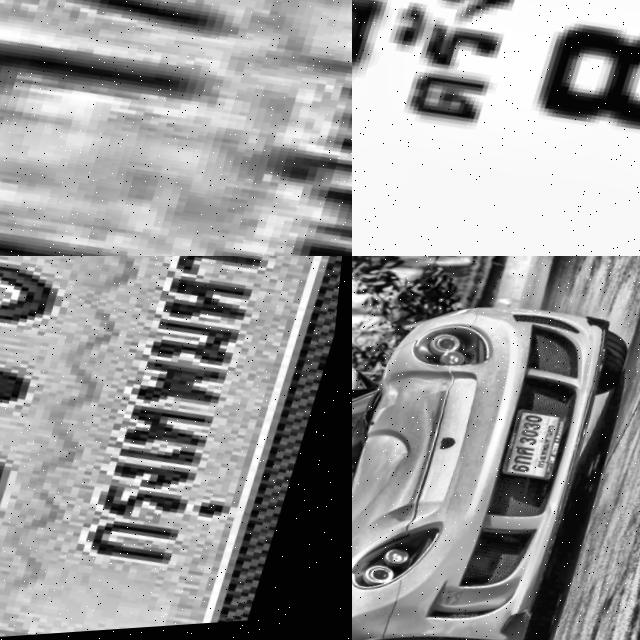license-plate: (0, 256, 352, 640), (0, 0, 352, 256), (352, 0, 640, 256), (500, 411, 573, 492)
